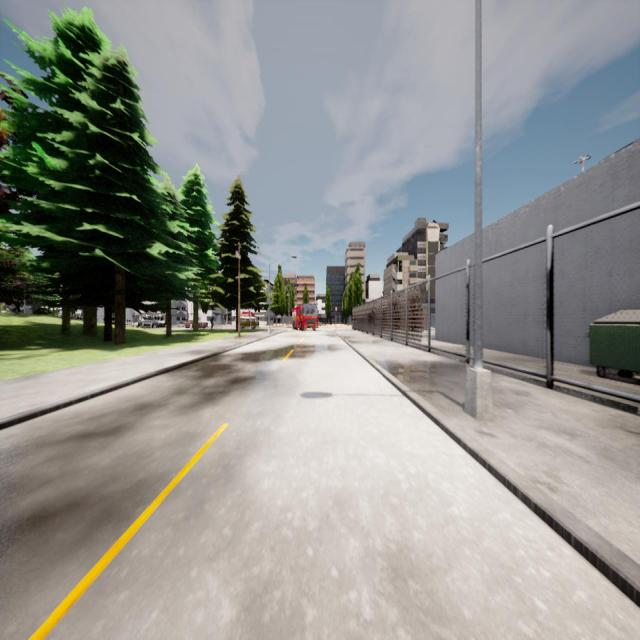Pedestrian: (210, 316, 214, 329)
Vehicle: (292, 304, 318, 330), (140, 313, 166, 328), (240, 317, 258, 329), (185, 322, 208, 328)
traffic_light: (335, 306, 337, 312)
